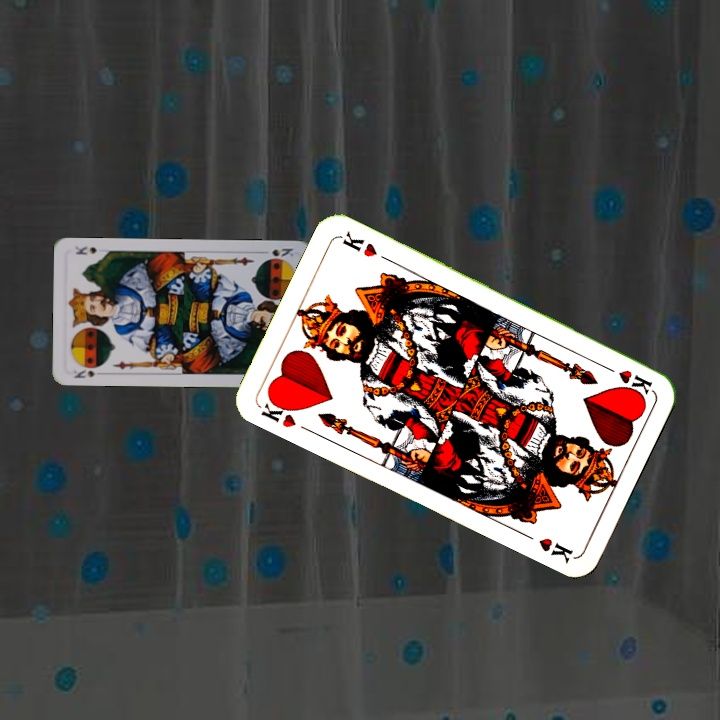HK: (598, 360, 655, 398), (257, 392, 300, 430)
SK: (70, 361, 105, 381), (268, 244, 296, 259)
